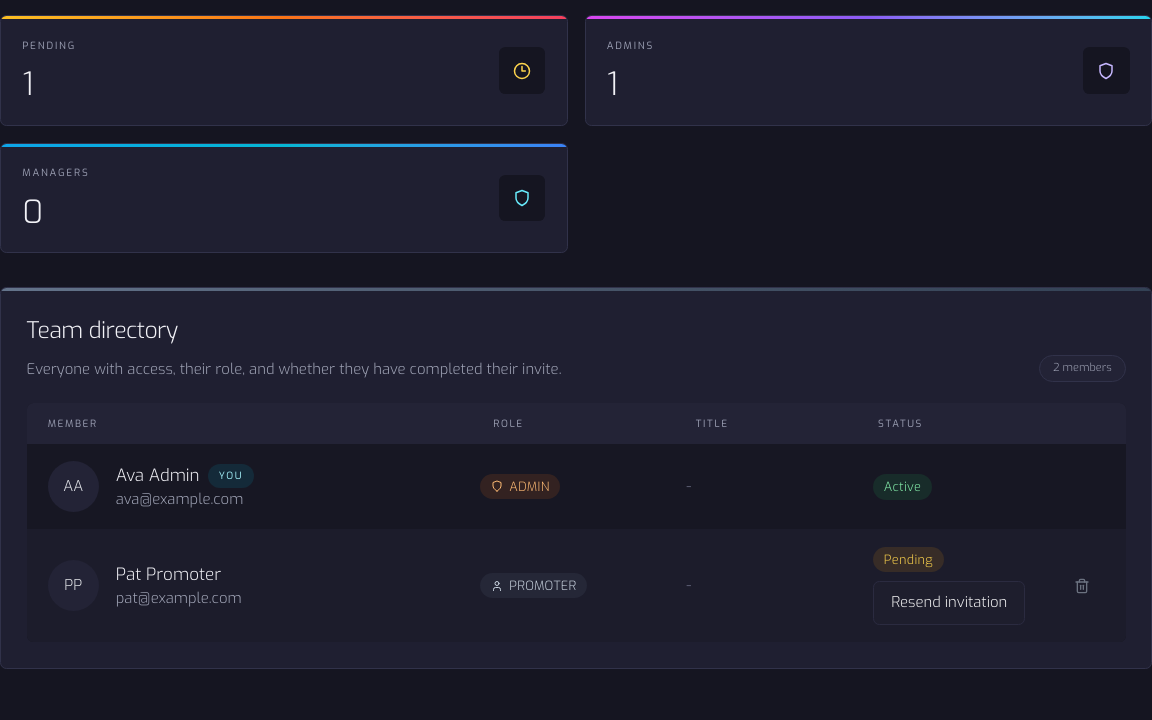
Test: TeamView › resends a pending invitation and reports delivery failure before retry
(page scrolled)
Click the button "Resend invitation" at x=949, y=603, box [873,581,1025,625]
(page scrolled)
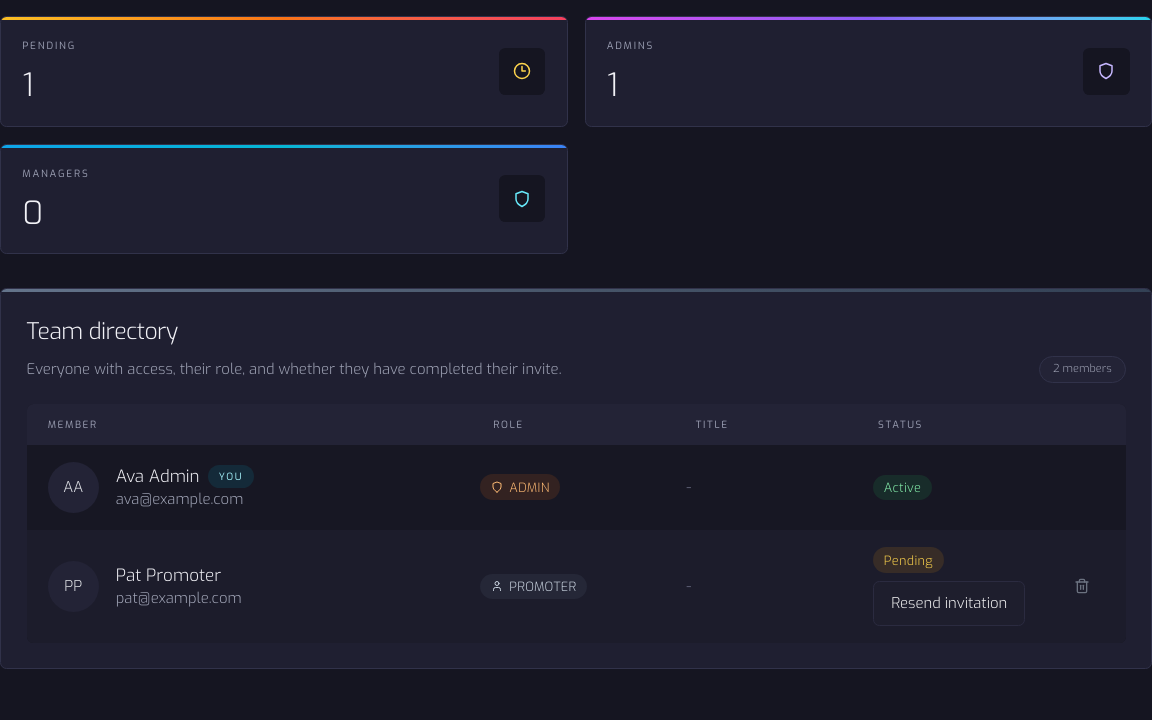
Click the button "Resend invitation" at x=949, y=604, box [873,581,1025,626]
(page scrolled)
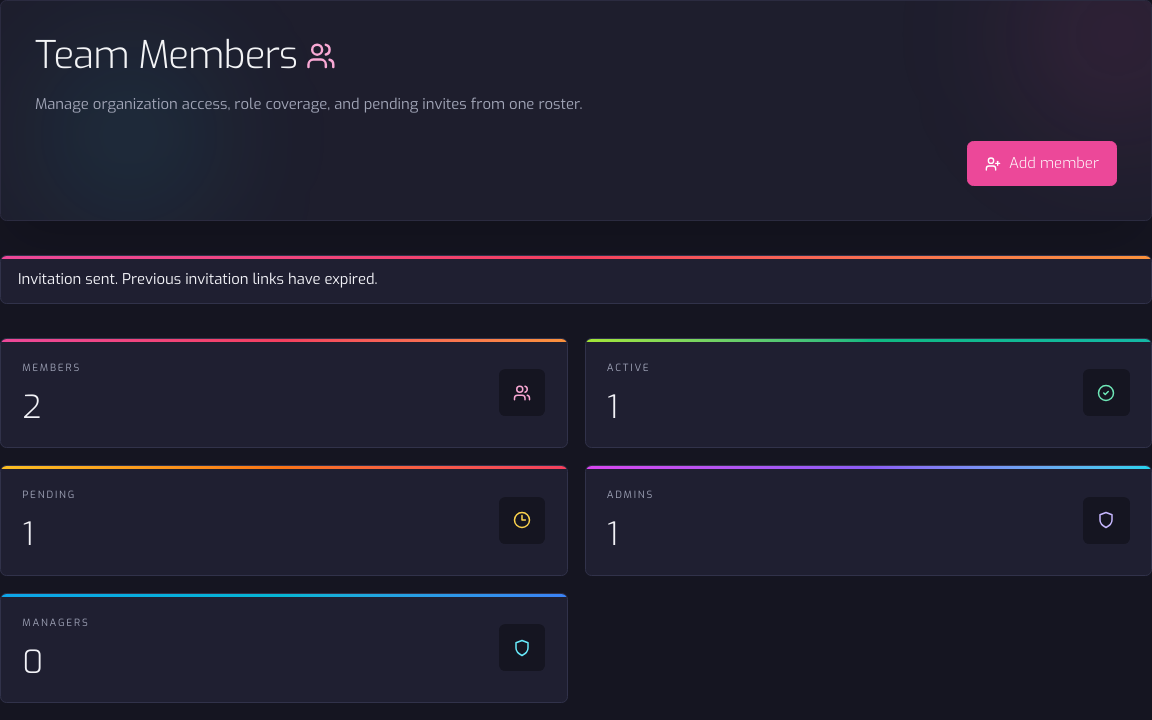
Expected: the message shows "Invitation sent.", [18,268,378,288]
